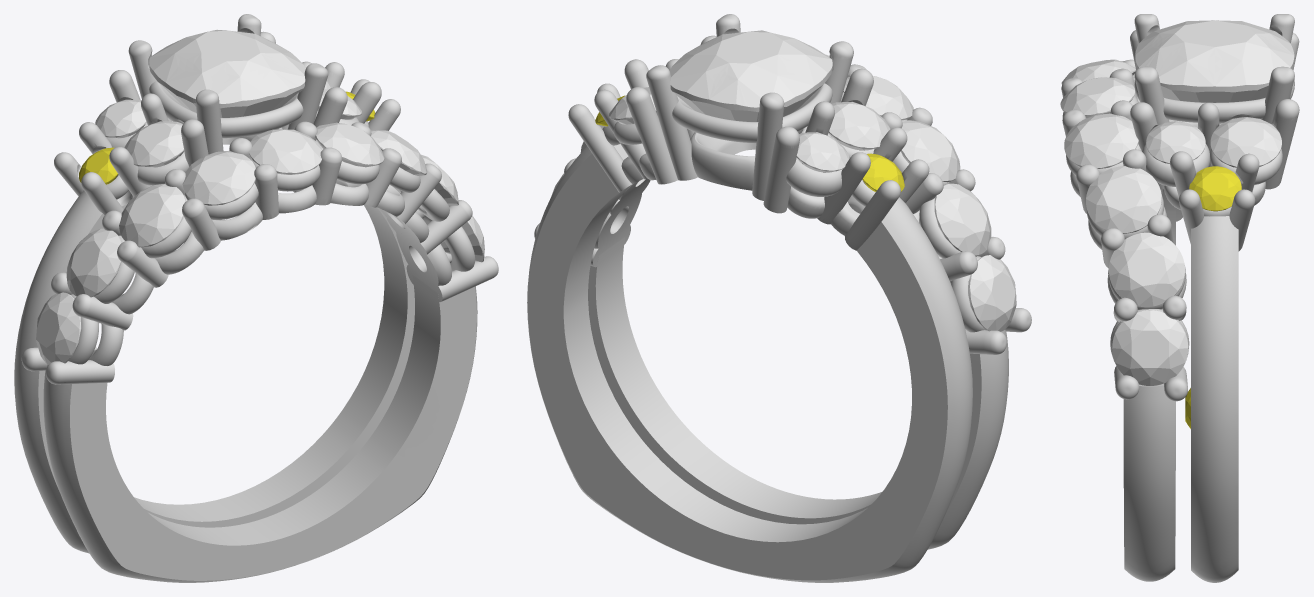
The model's file is MarcPT9stone.glb.
3 views of the same model, side by side, from view 1: azimuth 30°, elevation 25°; view 2: azimuth 150°, elevation 25°; view 3: azimuth 270°, elevation 25° (orthographic). The views are drawn at different scales.
Parts seen in each view (by area): view 1: 9 stone Sarah PT for 3d model, 9 stone Sarah dia for 3d model.011, 9 stone Sarah dia for 3d model.003, 9 stone Sarah dia for 3d model.002, 9 stone Sarah dia for 3d model.001, 9 stone Sarah dia for 3d model.004, 9 stone Sarah dia for 3d model, 9 stone Sarah dia for 3d model.009, 9 stone Sarah dia for 3d model.005, 9 stone Sarah dia for 3d model.010, 9 stone Sarah dia for 3d model.006, 9 stone Sarah yellow dia for 3d model.001 (+1 smaller); view 2: 9 stone Sarah PT for 3d model, 9 stone Sarah dia for 3d model.011, 9 stone Sarah dia for 3d model.001, 9 stone Sarah dia for 3d model, 9 stone Sarah dia for 3d model.002, 9 stone Sarah dia for 3d model.009, 9 stone Sarah dia for 3d model.010, 9 stone Sarah dia for 3d model.003, 9 stone Sarah yellow dia for 3d model.001; view 3: 9 stone Sarah PT for 3d model, 9 stone Sarah dia for 3d model.011, 9 stone Sarah dia for 3d model.008, 9 stone Sarah dia for 3d model.007, 9 stone Sarah dia for 3d model.006, 9 stone Sarah dia for 3d model.005, 9 stone Sarah dia for 3d model.012, 9 stone Sarah dia for 3d model.004, 9 stone Sarah dia for 3d model.013, 9 stone Sarah yellow dia for 3d model.002, 9 stone Sarah dia for 3d model.003.
Part boxes in pixels (x1,y1,x2,y2): 9 stone Sarah PT for 3d model: (14,14,498,582); 9 stone Sarah dia for 3d model.011: (149,29,305,117); 9 stone Sarah dia for 3d model.003: (182,151,255,205); 9 stone Sarah dia for 3d model.002: (119,184,185,247); 9 stone Sarah dia for 3d model.001: (66,228,121,297); 9 stone Sarah dia for 3d model.004: (249,129,322,174); 9 stone Sarah dia for 3d model: (36,292,81,364); 9 stone Sarah dia for 3d model.009: (124,121,184,167); 9 stone Sarah dia for 3d model.005: (315,122,384,167); 9 stone Sarah dia for 3d model.010: (95,99,146,138); 9 stone Sarah dia for 3d model.006: (371,130,427,175); 9 stone Sarah yellow dia for 3d model.001: (79,147,118,184); 9 stone Sarah PT for 3d model: (527,14,1031,582); 9 stone Sarah dia for 3d model.011: (670,30,832,121); 9 stone Sarah dia for 3d model.001: (934,183,991,255); 9 stone Sarah dia for 3d model: (968,255,1016,331); 9 stone Sarah dia for 3d model.002: (900,120,960,182); 9 stone Sarah dia for 3d model.009: (828,101,890,149); 9 stone Sarah dia for 3d model.010: (796,132,849,172); 9 stone Sarah dia for 3d model.003: (843,76,913,120); 9 stone Sarah yellow dia for 3d model.001: (862,153,904,191); 9 stone Sarah PT for 3d model: (1061,14,1299,582); 9 stone Sarah dia for 3d model.011: (1135,20,1294,123); 9 stone Sarah dia for 3d model.008: (1112,310,1188,385); 9 stone Sarah dia for 3d model.007: (1109,232,1184,307); 9 stone Sarah dia for 3d model.006: (1086,166,1161,233); 9 stone Sarah dia for 3d model.005: (1064,113,1138,168); 9 stone Sarah dia for 3d model.012: (1210,117,1281,167); 9 stone Sarah dia for 3d model.004: (1060,77,1135,118); 9 stone Sarah dia for 3d model.013: (1146,121,1205,163); 9 stone Sarah yellow dia for 3d model.002: (1189,166,1241,211); 9 stone Sarah dia for 3d model.003: (1061,59,1136,84).
Bounding box in the file's own units: 22.15 × 23.67 × 10.04.
